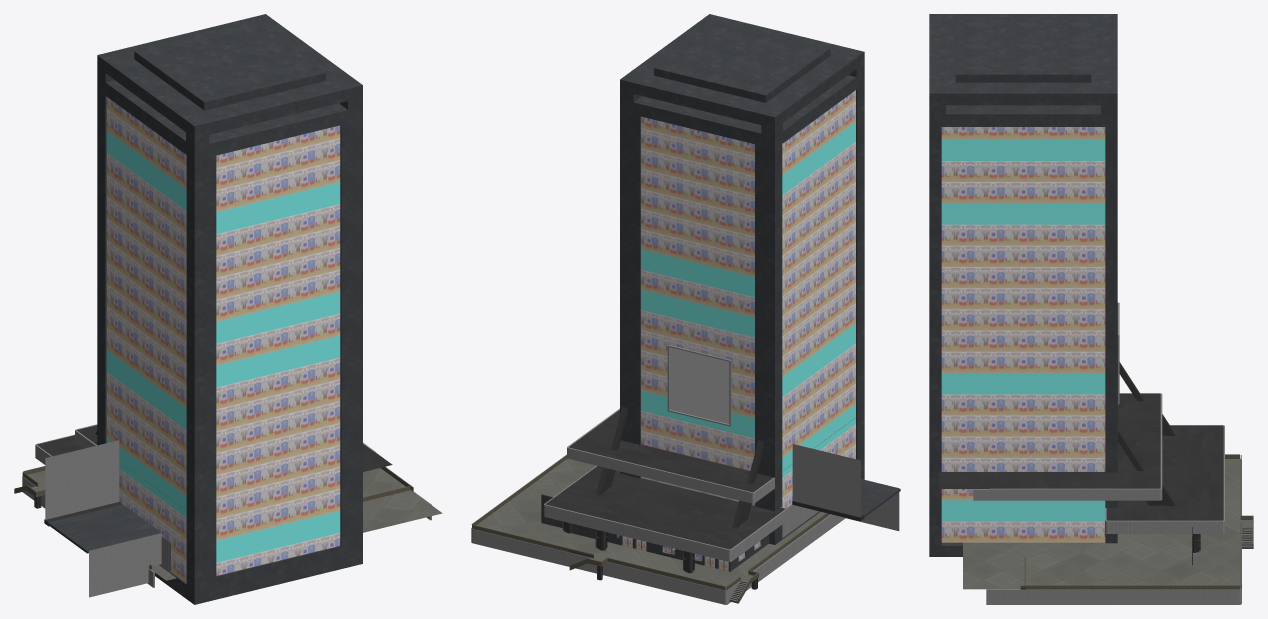
Rendered from Building4.gltf.
The picture shows the model from 3 angles, left to right: view 1: azimuth 30°, elevation 25°; view 2: azimuth 150°, elevation 25°; view 3: azimuth 270°, elevation 25°; orthographic projection. The views are drawn at different scales.
Visible parts, largest first — view 1: SM_BGBuilding2, SM_FloorPlane, SM_cube.001, SM_FloorPlane_1; view 2: SM_BGBuilding2, Plane27, SM_FloorPlane, SM_Billboard_1x1, SM_FloorPlane_1, SM_cube.001; view 3: SM_BGBuilding2, SM_FloorPlane, SM_FloorPlane_1, Plane27.
Part boxes in pixels (left/top/right/bottom): SM_BGBuilding2: left=97, top=14, right=362, bottom=604; SM_FloorPlane: left=27, top=468, right=442, bottom=580; SM_cube.001: left=47, top=504, right=161, bottom=553; SM_FloorPlane_1: left=77, top=425, right=392, bottom=510; SM_BGBuilding2: left=620, top=14, right=864, bottom=544; Plane27: left=545, top=466, right=784, bottom=549; SM_FloorPlane: left=476, top=458, right=825, bottom=590; SM_Billboard_1x1: left=667, top=345, right=731, bottom=426; SM_FloorPlane_1: left=569, top=410, right=853, bottom=492; SM_cube.001: left=861, top=479, right=900, bottom=517; SM_BGBuilding2: left=929, top=14, right=1117, bottom=556; SM_FloorPlane: left=963, top=458, right=1240, bottom=589; SM_FloorPlane_1: left=938, top=394, right=1160, bottom=488; Plane27: left=1106, top=425, right=1223, bottom=520.
Size of the model in its own units: 68.35 by 94.04 by 58.39.
